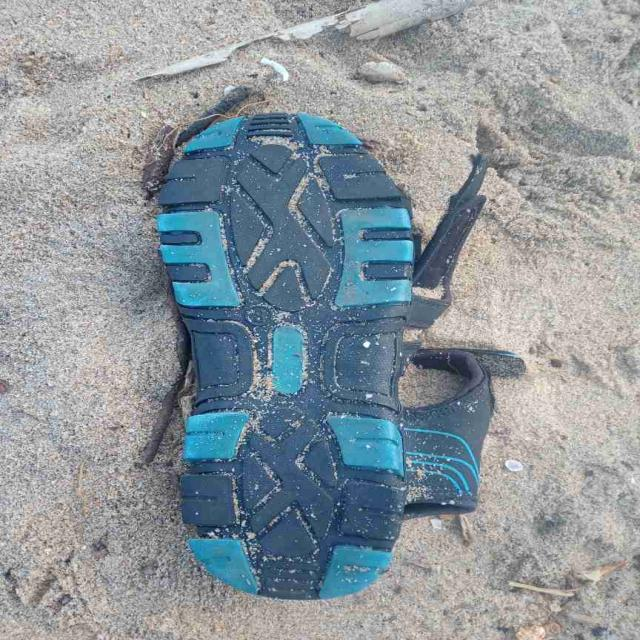other: (156, 113, 493, 600)
